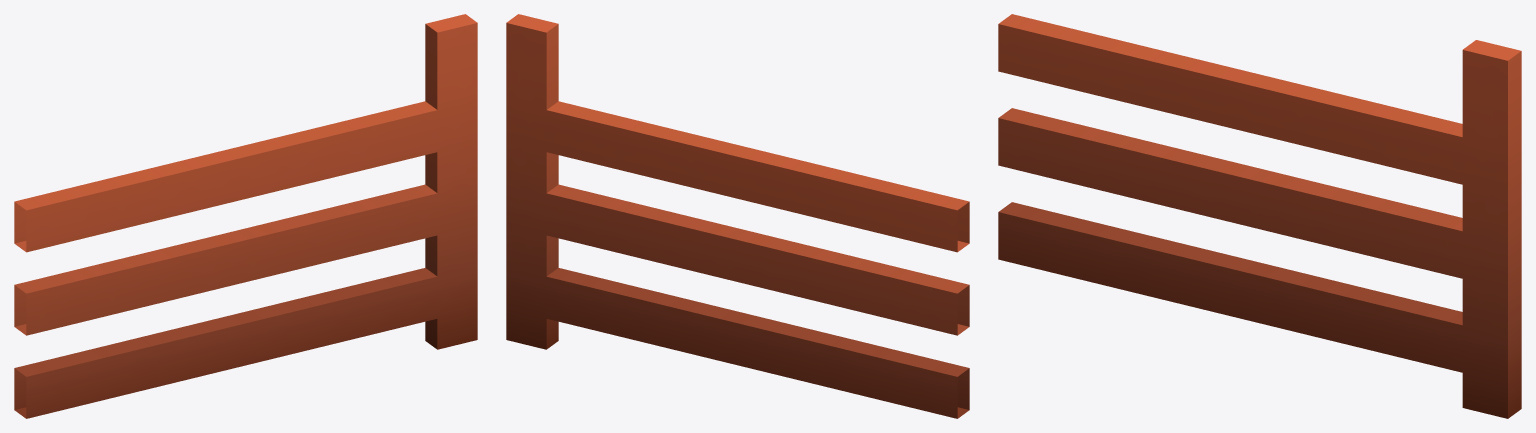
The model's file is little_fence_sm.obj.
3 renders of one model, left to right at view 1: azimuth 30°, elevation 25°; view 2: azimuth 150°, elevation 25°; view 3: azimuth 330°, elevation 25°, orthographic. The views are drawn at different scales.
Visible parts, largest first — view 1: little_fence_sm; view 2: little_fence_sm; view 3: little_fence_sm.
Boxes of the visible parts, x1,y1,x2,y2 form: little_fence_sm: (14, 14, 477, 418); little_fence_sm: (506, 14, 969, 418); little_fence_sm: (998, 14, 1521, 418).
Size of the model in its own units: 2.16 by 1.45 by 0.1003.
